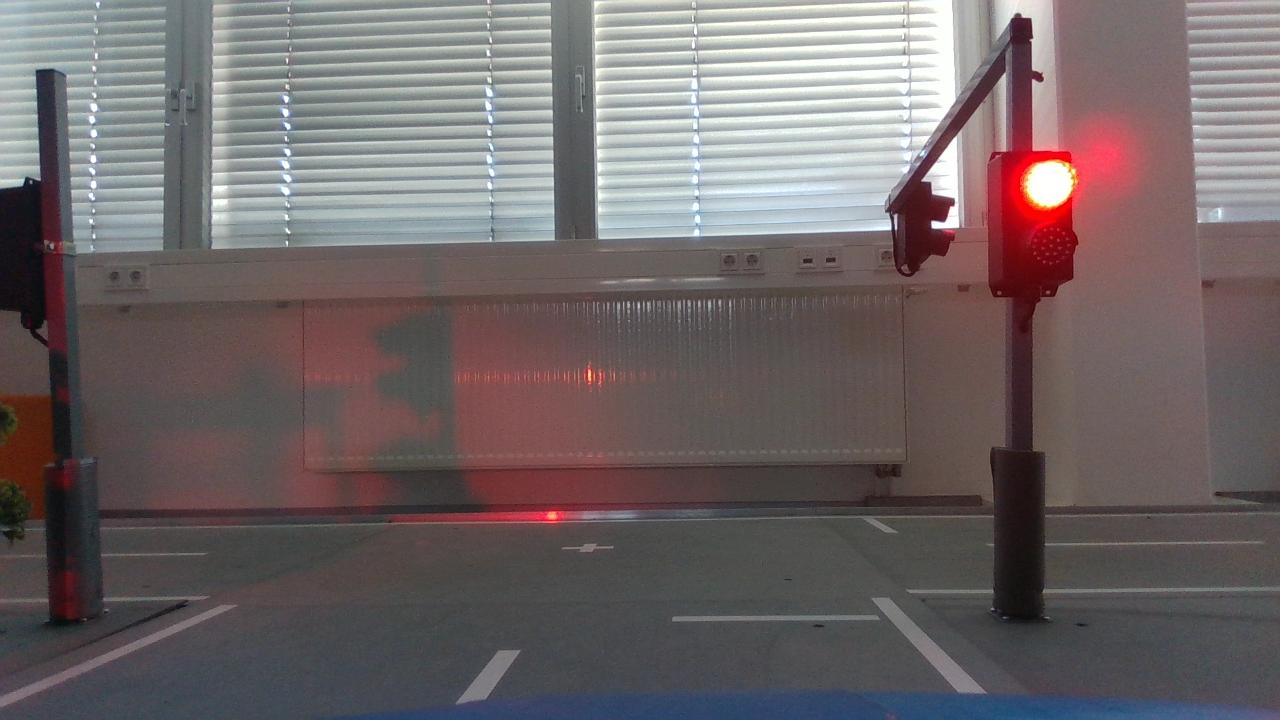traffic_light_red: (974, 134, 1090, 311)
